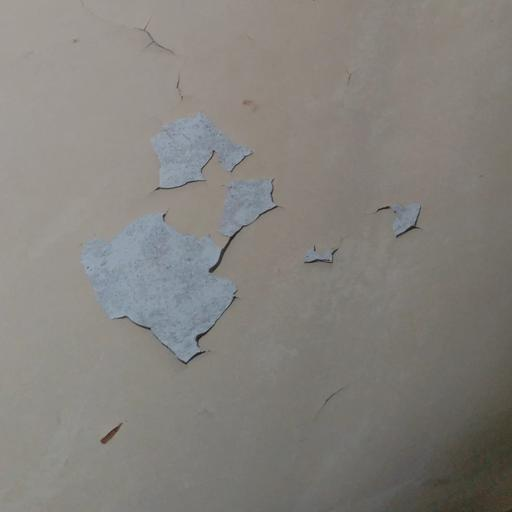peeling: (84, 14, 282, 373), (364, 185, 432, 249), (299, 236, 342, 270)
